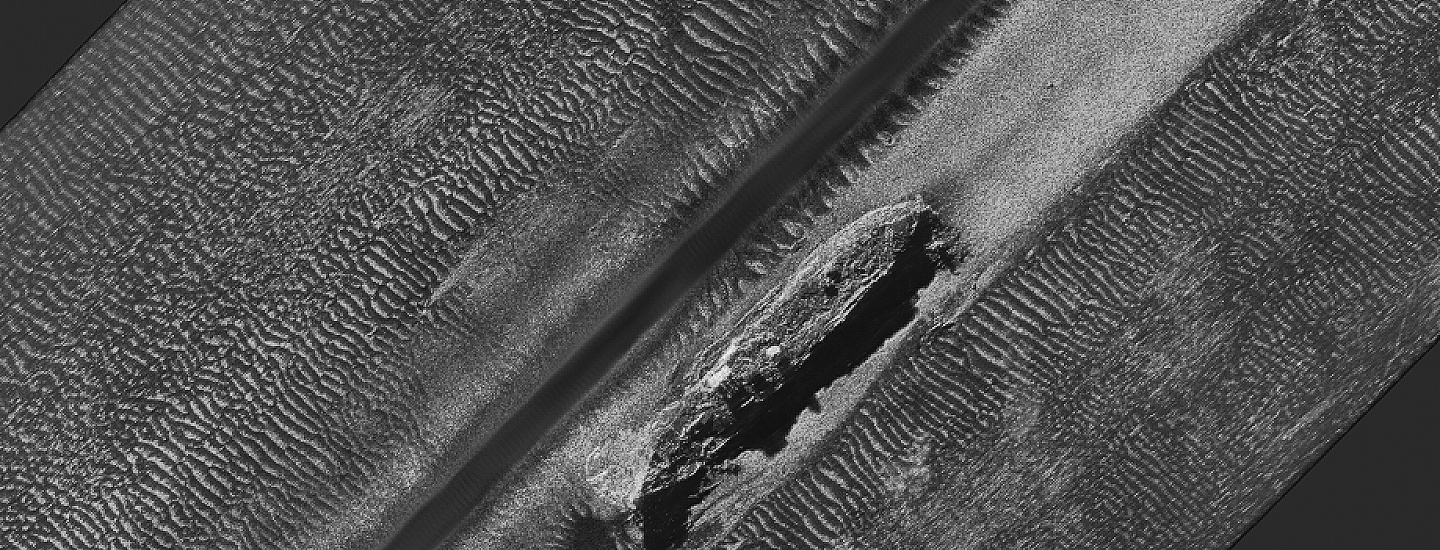ship: (639, 193, 954, 502)
